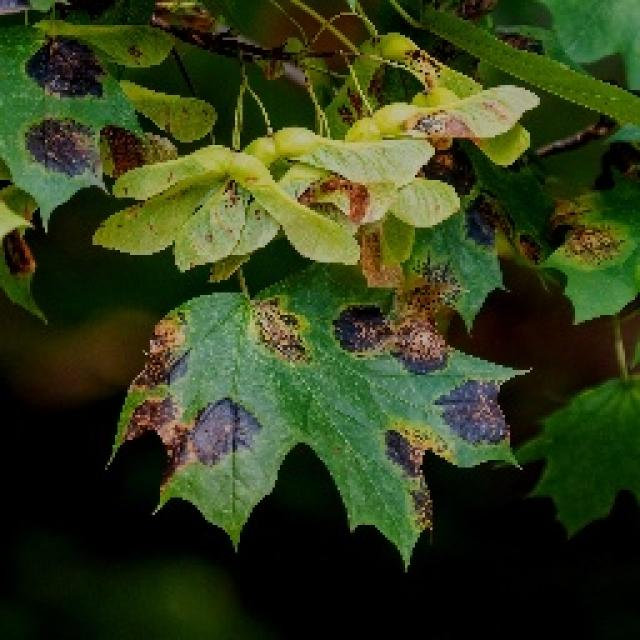Tar_Spot: (102, 262, 530, 568), (0, 2, 150, 232)
